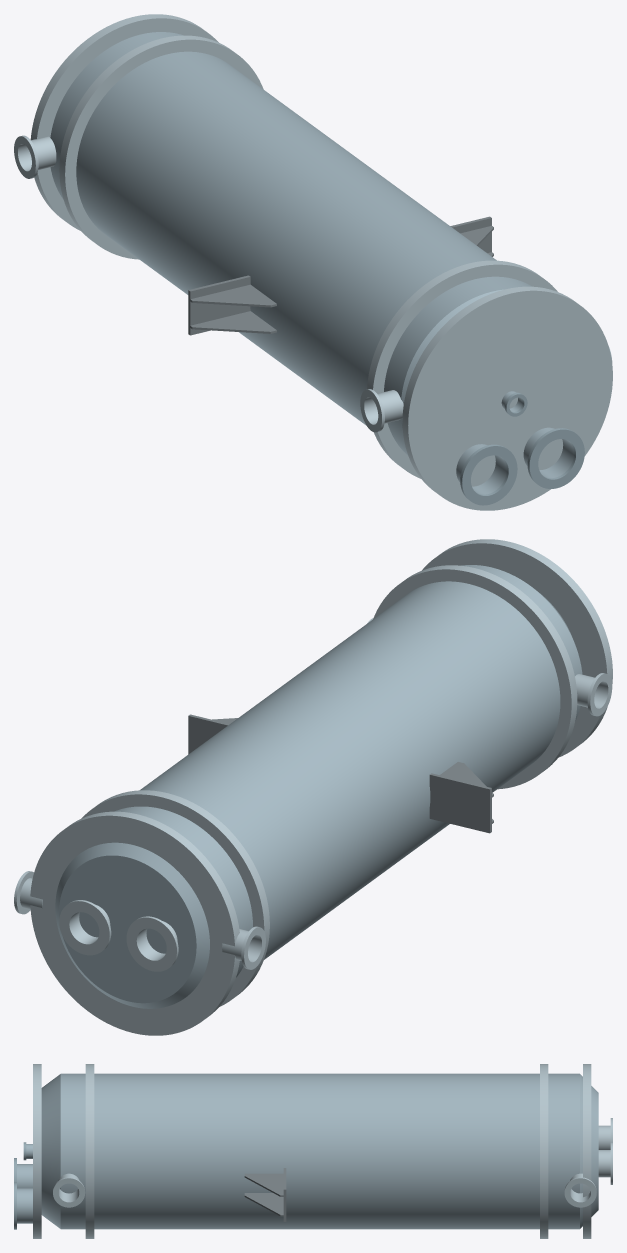
3 views of the same model, one above another, from view 1: azimuth 30°, elevation 25°; view 2: azimuth 150°, elevation 25°; view 3: azimuth 270°, elevation 25° (orthographic). The views are drawn at different scales.
Visible parts, largest first — view 1: 本体_石墨换热器筒, 本体_连接环, 接口_顶盖法兰01, 托耳_换热器2底板, 接口_顶盖法兰02, 接口_侧面接管, 接口_侧面法兰, 托耳_换热器2筋板+1, 托耳_换热器2筋板-1, 接口_顶盖接管01, 接口_顶盖接管02, 本体_上封头; view 2: 本体_石墨换热器筒, 本体_连接环, 本体_下封头, 接口_底部法兰, 托耳_换热器2底板, 接口_侧面法兰, 接口_侧面接管, 托耳_换热器1底板, 接口_底部接管; view 3: 本体_石墨换热器筒, 本体_连接环, 本体_上封头, 本体_下封头, 接口_侧面法兰, 接口_底部接管, 托耳_换热器1筋板+1, 接口_顶盖接管02, 托耳_换热器1筋板-1, 接口_侧面接管, 接口_顶盖接管01.
Boxes of the visible parts, x1=… form: 本体_石墨换热器筒: x1=50, y1=32, x2=531, y2=455; 本体_连接环: x1=30, y1=14, x2=612, y2=510; 接口_顶盖法兰01: x1=460, y1=444, x2=517, y2=505; 托耳_换热器2底板: x1=188, y1=275, x2=250, y2=335; 接口_顶盖法兰02: x1=527, y1=428, x2=584, y2=488; 接口_侧面接管: x1=20, y1=136, x2=403, y2=423; 接口_侧面法兰: x1=14, y1=135, x2=612, y2=432; 托耳_换热器2筋板+1: x1=190, y1=311, x2=276, y2=333; 托耳_换热器2筋板-1: x1=190, y1=284, x2=276, y2=307; 接口_顶盖接管01: x1=456, y1=444, x2=506, y2=494; 接口_顶盖接管02: x1=523, y1=427, x2=574, y2=478; 本体_上封头: x1=401, y1=289, x2=503, y2=427; 本体_石墨换热器筒: x1=114, y1=565, x2=582, y2=977; 本体_连接环: x1=30, y1=539, x2=612, y2=1035; 本体_下封头: x1=55, y1=842, x2=209, y2=1008; 接口_底部法兰: x1=59, y1=900, x2=178, y2=971; 托耳_换热器2底板: x1=429, y1=773, x2=491, y2=833; 接口_侧面法兰: x1=14, y1=618, x2=612, y2=969; 接口_侧面接管: x1=20, y1=674, x2=605, y2=961; 托耳_换热器1底板: x1=188, y1=714, x2=229, y2=754; 接口_底部接管: x1=71, y1=904, x2=177, y2=959; 本体_石墨换热器筒: x1=60, y1=1073, x2=579, y2=1229; 本体_连接环: x1=33, y1=1064, x2=591, y2=1238; 本体_上封头: x1=41, y1=1074, x2=60, y2=1228; 本体_下封头: x1=580, y1=1074, x2=598, y2=1228; 接口_侧面法兰: x1=53, y1=1177, x2=596, y2=1207; 接口_底部接管: x1=598, y1=1125, x2=610, y2=1177; 托耳_换热器1筋板+1: x1=244, y1=1173, x2=283, y2=1196; 接口_顶盖接管02: x1=17, y1=1188, x2=32, y2=1223; 托耳_换热器1筋板-1: x1=244, y1=1193, x2=283, y2=1216; 接口_侧面接管: x1=58, y1=1173, x2=590, y2=1201; 接口_顶盖接管01: x1=17, y1=1164, x2=32, y2=1188.
Bounding box in the file's own units: 2.15 × 1.46 × 5.
